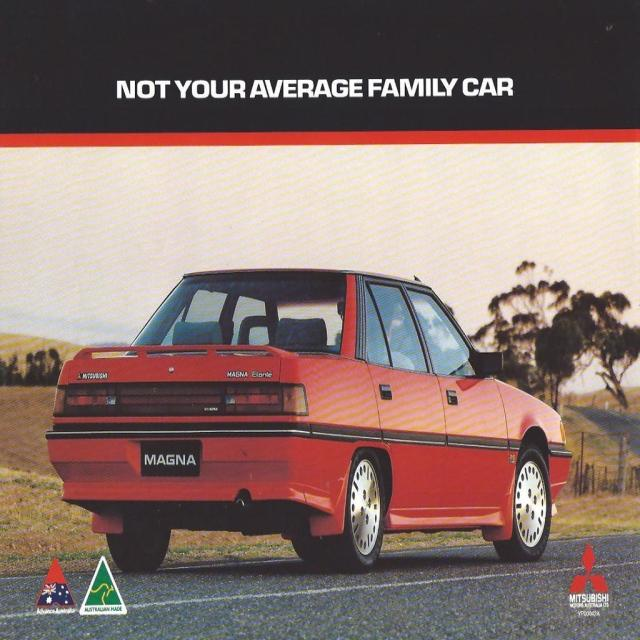car: (43, 268, 566, 584)
